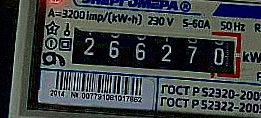0: (211, 45, 226, 66)
2: (80, 35, 97, 56), (158, 41, 174, 62)
6: (106, 37, 121, 59), (133, 40, 148, 61)
7: (184, 43, 198, 63)
screen: (61, 16, 249, 83)
